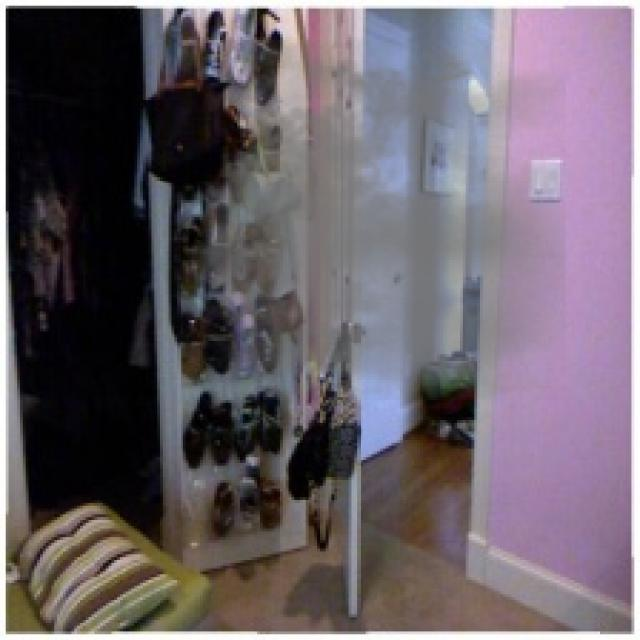smoke: (174, 37, 566, 400)
